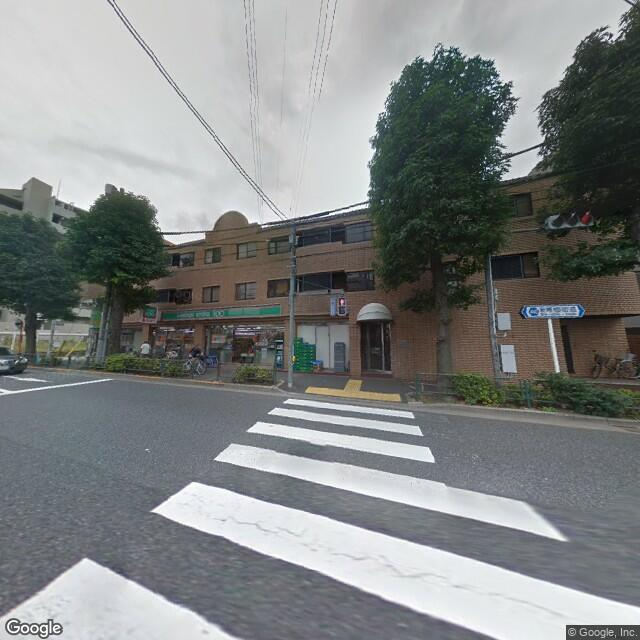lawson: (161, 302, 282, 324), (138, 305, 158, 324)
